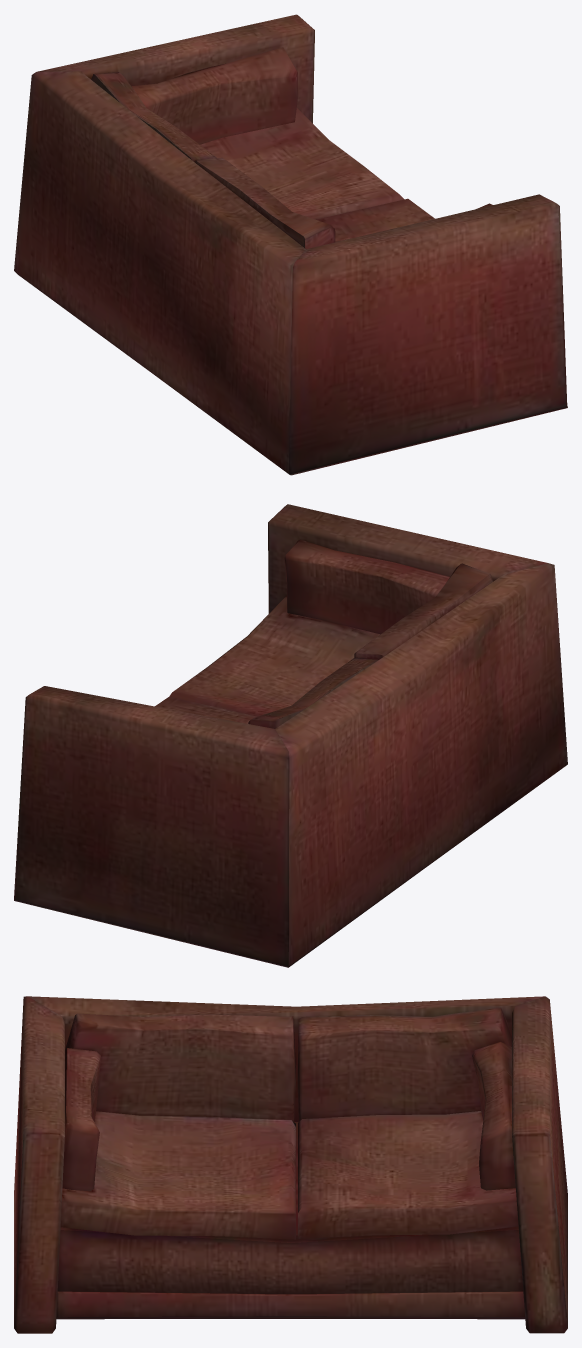
Rendered from furniturecouch001a.glb.
The picture shows the model from 3 angles, top to bottom: view 1: azimuth 30°, elevation 25°; view 2: azimuth 150°, elevation 25°; view 3: azimuth 270°, elevation 25°; orthographic projection.
Parts seen in each view (by area): view 1: 0_furniturecouch001a; view 2: 0_furniturecouch001a; view 3: 0_furniturecouch001a.
Boxes of the visible parts, x1,y1,x2,y2 form: 0_furniturecouch001a: [14, 14, 567, 475]; 0_furniturecouch001a: [14, 504, 567, 967]; 0_furniturecouch001a: [14, 996, 567, 1333].
Bounding box in the file's own units: 1.14 × 0.8278 × 1.95.
Materials: 1 (1 with a texture image).
